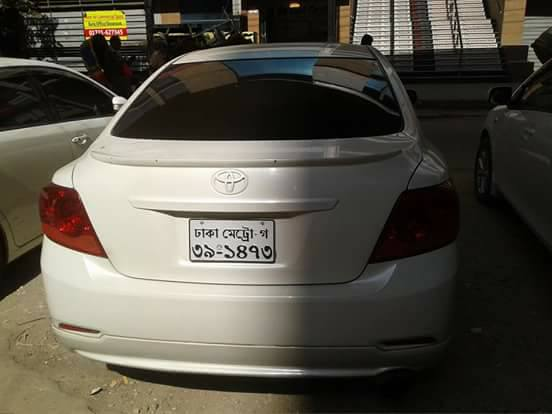registration_plate: (188, 216, 277, 264)
